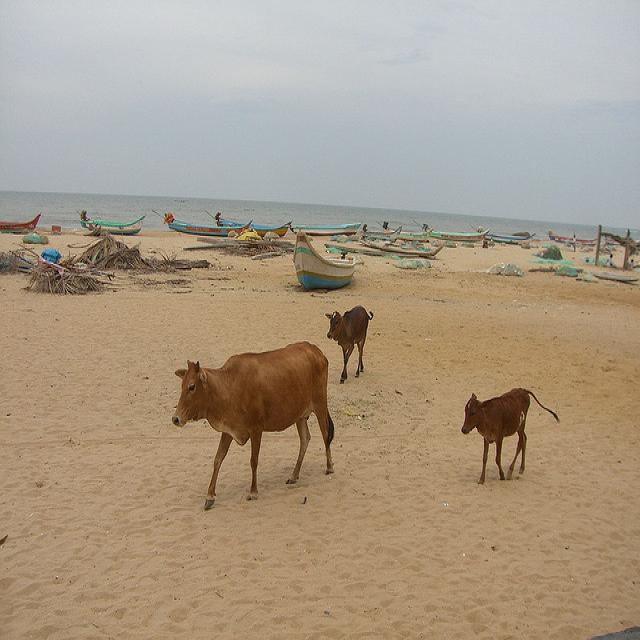cow: (170, 339, 338, 509), (459, 384, 559, 483), (324, 304, 369, 383)
